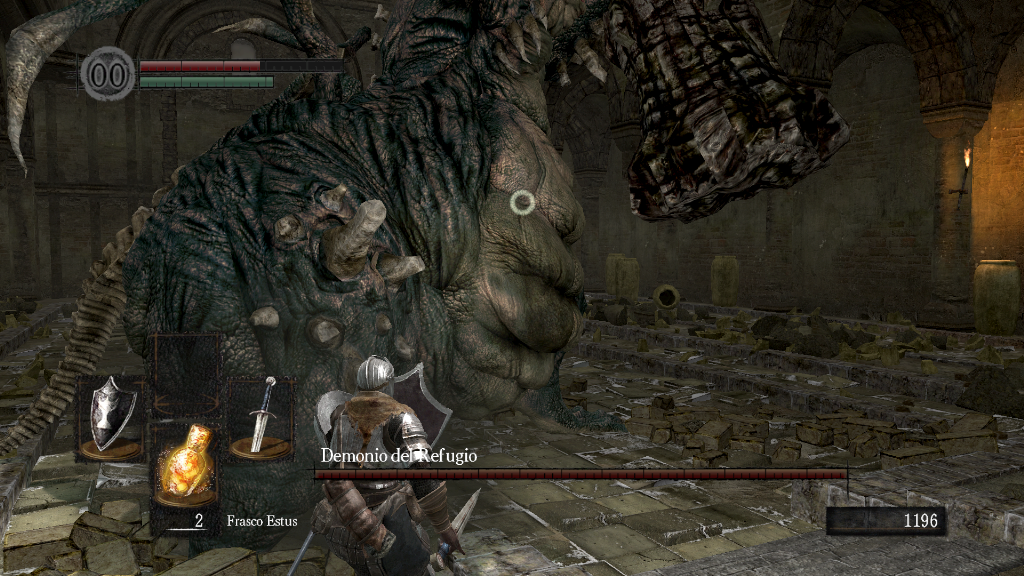asylumDemon: (1, 2, 861, 576)
bossHP: (314, 469, 847, 479)
health: (138, 58, 343, 71)
humanity: (80, 45, 136, 102)
player: (310, 354, 483, 576)
souls: (825, 506, 945, 536)
stamina: (138, 74, 274, 88)
